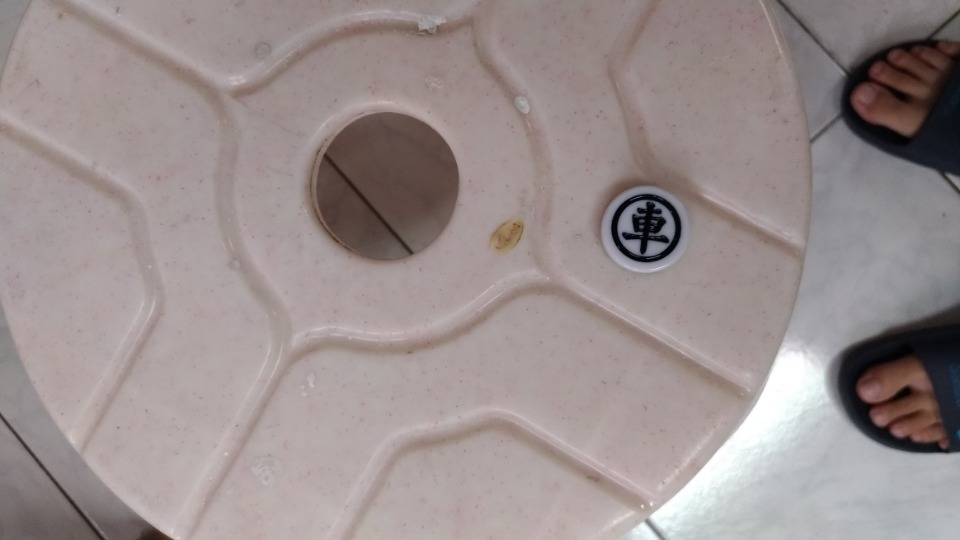b-king: (589, 171, 706, 286)
